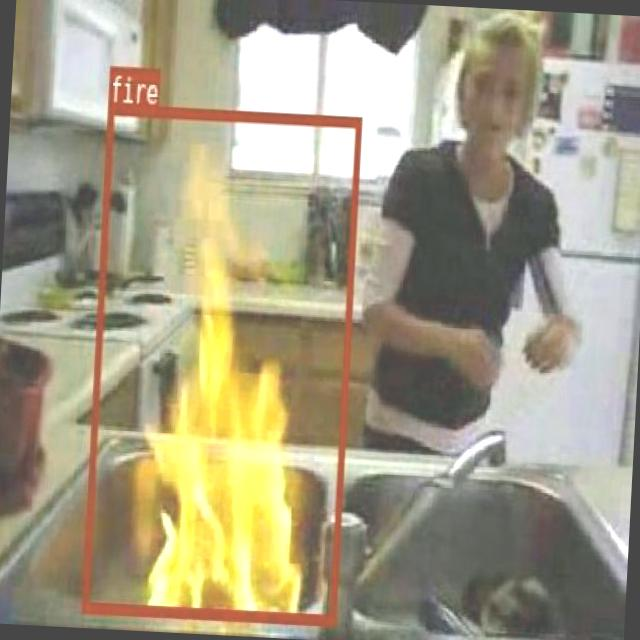fire: (80, 102, 360, 624)
